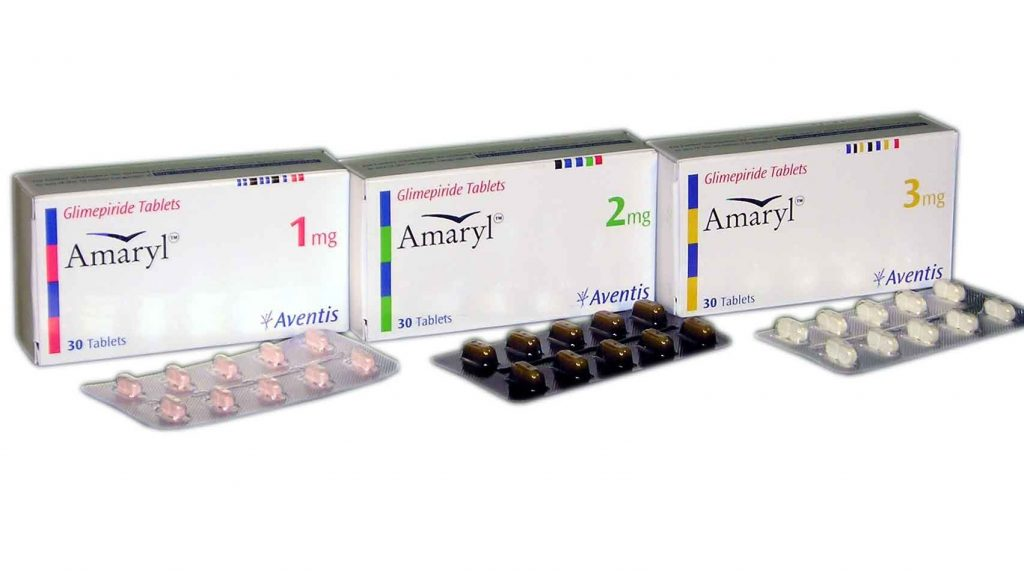Medicine: (8, 147, 347, 365), (352, 130, 657, 342), (660, 105, 963, 317)
